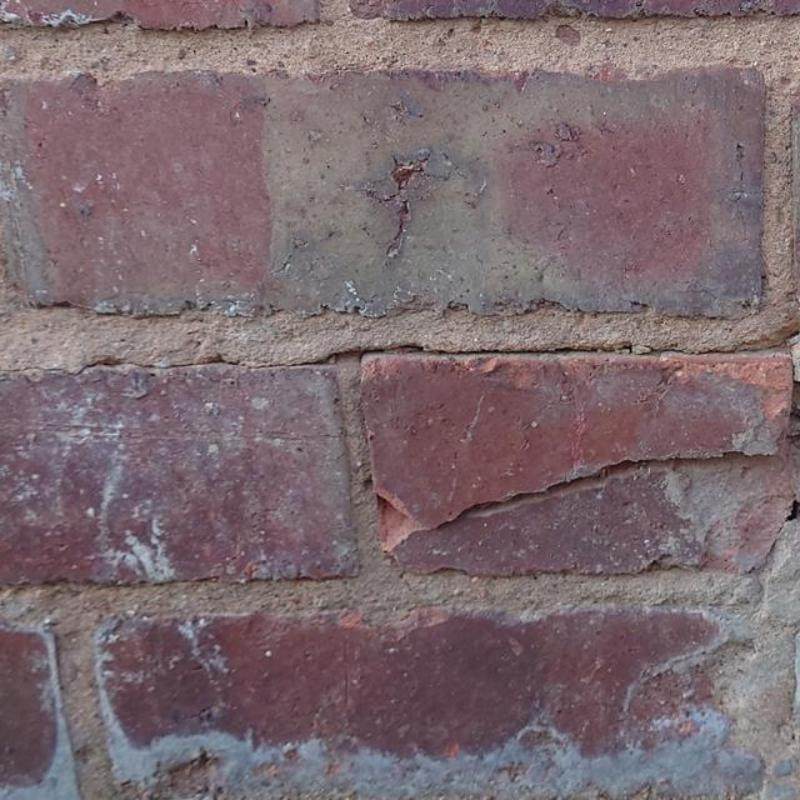crack: (5, 330, 799, 375), (441, 452, 788, 524), (785, 500, 799, 521)
